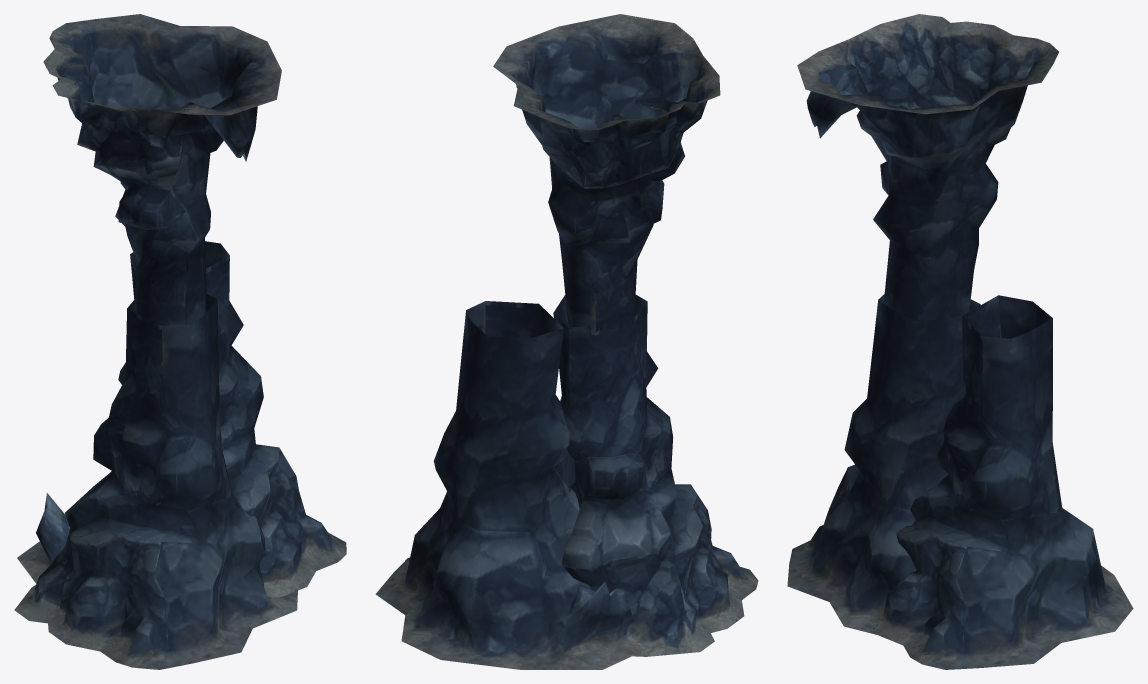
File: Area_02_10.fbx
3 views of the same model, side by side, from view 1: azimuth 30°, elevation 25°; view 2: azimuth 150°, elevation 25°; view 3: azimuth 270°, elevation 25° (orthographic). The views are drawn at different scales.
Parts seen in each view (by area): view 1: Area_02_10; view 2: Area_02_10; view 3: Area_02_10.
Boxes of the visible parts, x1,y1,x2,y2 form: Area_02_10: (14, 14, 346, 669); Area_02_10: (375, 14, 758, 669); Area_02_10: (787, 14, 1133, 669).
Size of the model in its own units: 3690 by 6016 by 3643.
